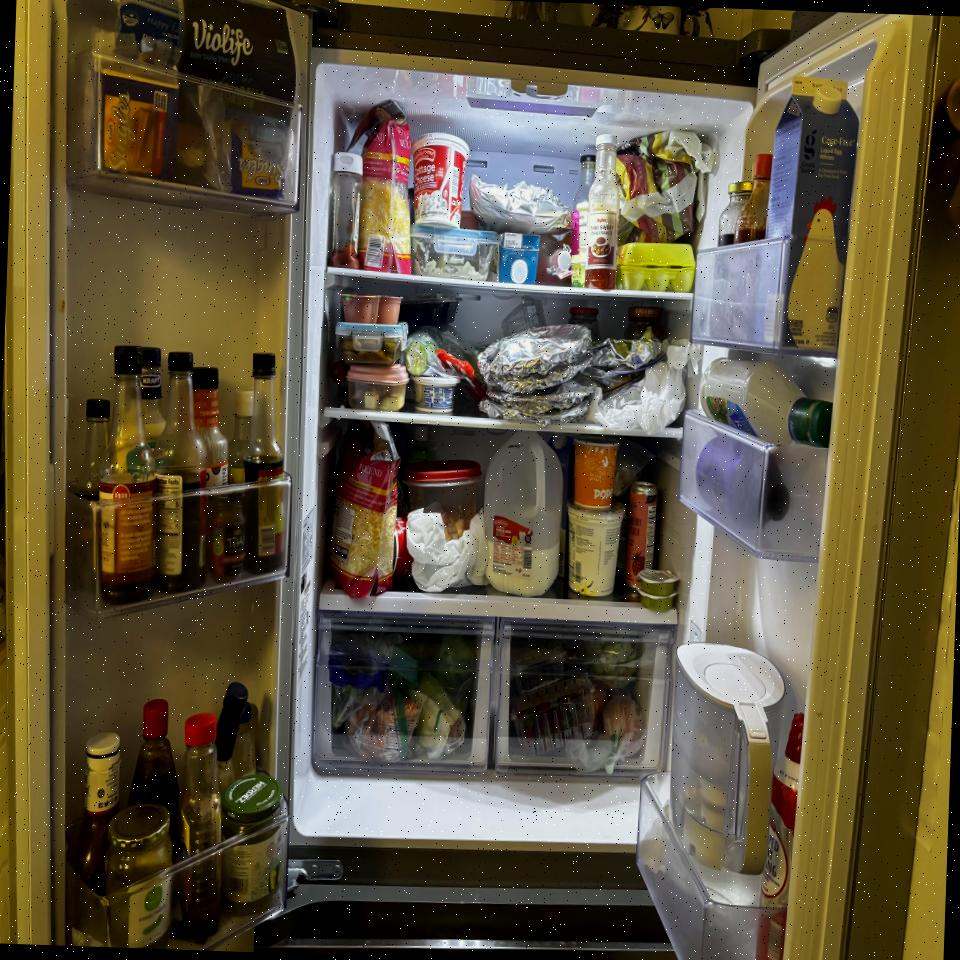Huevos: (616, 241, 696, 294)
Leche: (480, 428, 566, 598)
Lechuga/Endivia: (415, 674, 468, 758)
Queso: (84, 52, 182, 183), (222, 111, 296, 203), (352, 382, 404, 410)
Yogur: (564, 500, 625, 598)
Zanahoria: (342, 691, 422, 765)
blueberries: (513, 638, 566, 693)
ketchup: (328, 152, 365, 270)
strawberries: (512, 668, 596, 760)
